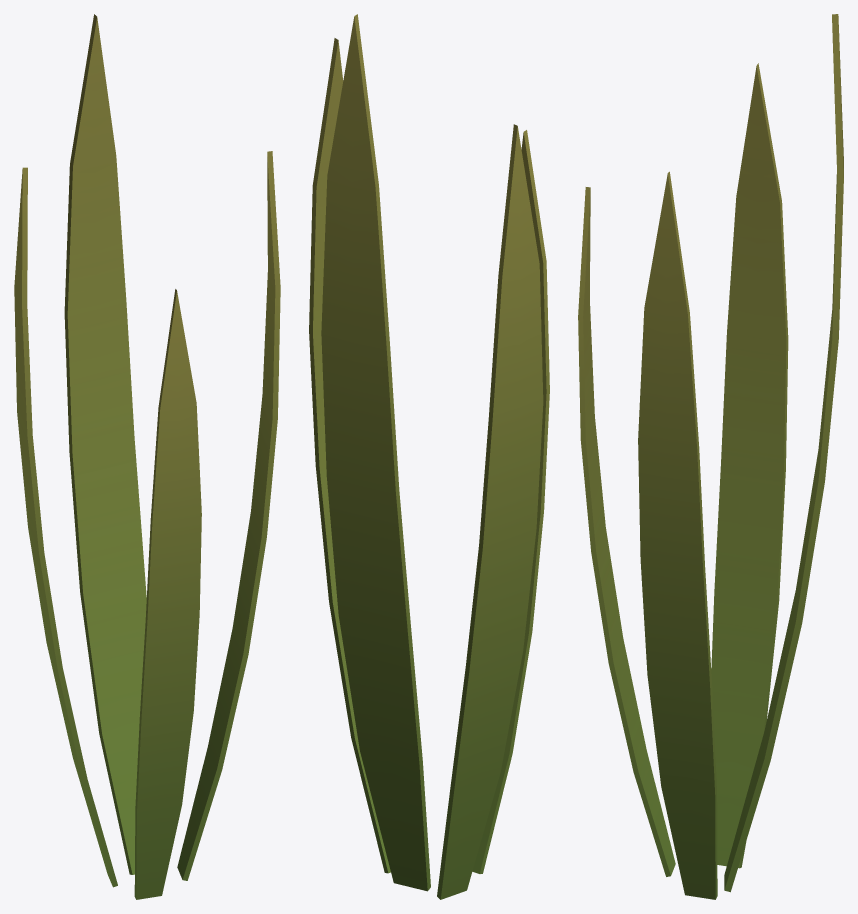
The model's file is Seaweed_04.fbx.
The picture shows the model from 3 angles, left to right: view 1: azimuth 30°, elevation 25°; view 2: azimuth 150°, elevation 25°; view 3: azimuth 270°, elevation 25°; orthographic projection. The views are drawn at different scales.
Parts seen in each view (by area): view 1: Seaweed_04_LOD0; view 2: Seaweed_04_LOD0; view 3: Seaweed_04_LOD0.
Boxes of the visible parts, x1=… form: Seaweed_04_LOD0: x1=14, y1=14, x2=280, y2=899; Seaweed_04_LOD0: x1=309, y1=14, x2=549, y2=899; Seaweed_04_LOD0: x1=578, y1=14, x2=843, y2=899.
Size of what is drawn, in the model's own units: 0.2129 by 0.7326 by 0.2028.
